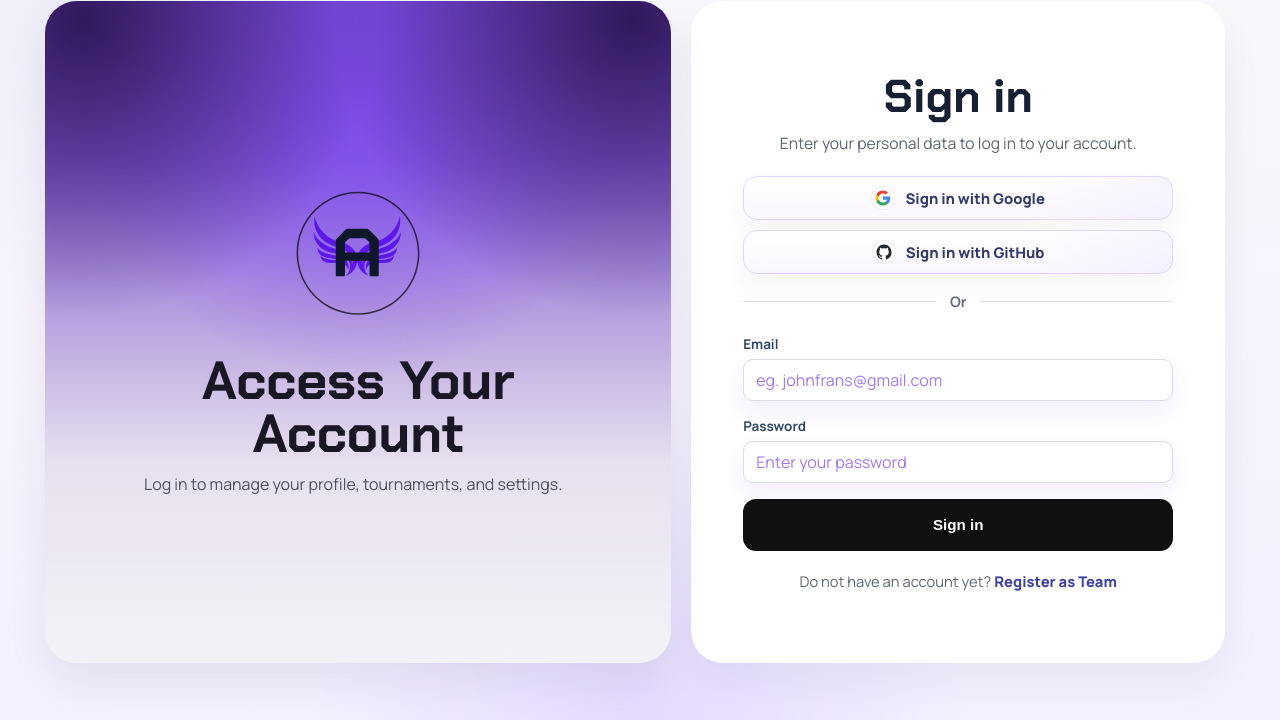
Test: LoginPage › shows validation error when email is invalid
Step 1. Type "wrong-email" into the field labelled "Email" → coordinates (958, 380), box [743,359,1173,401]
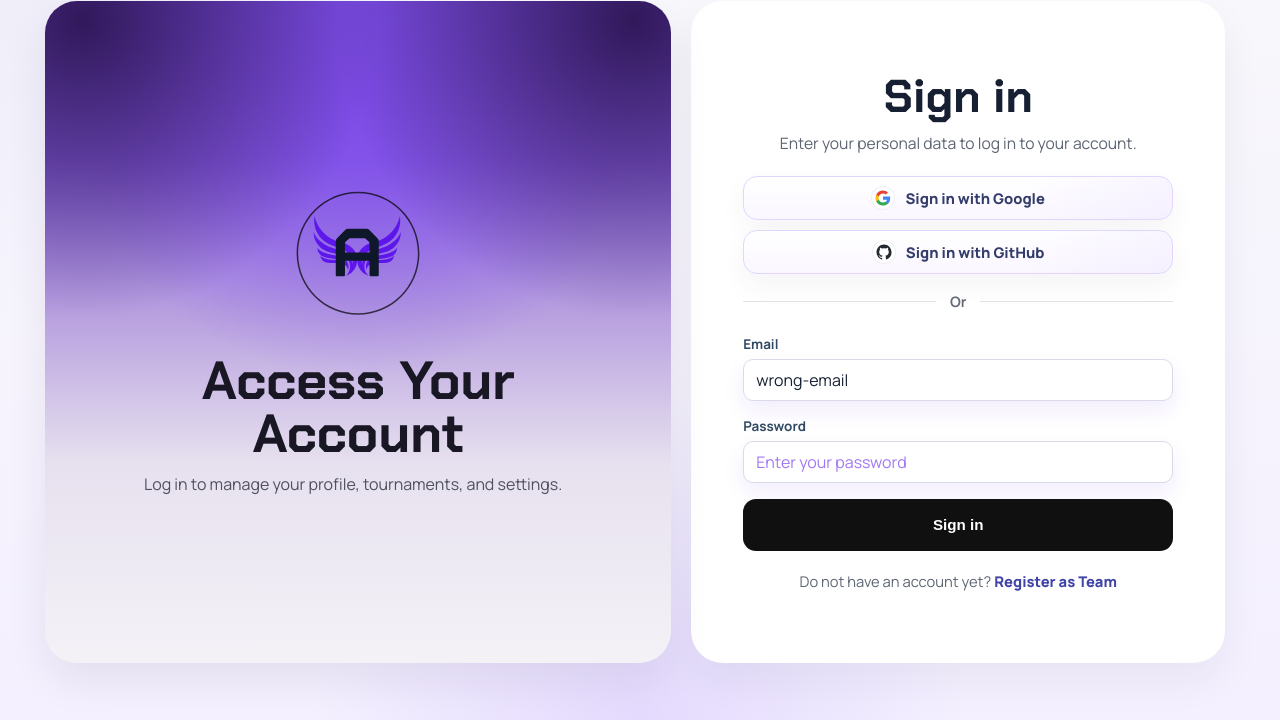
Step 2. Type "secret123" into the password field labelled "Password" → coordinates (958, 462), box [743,441,1173,483]
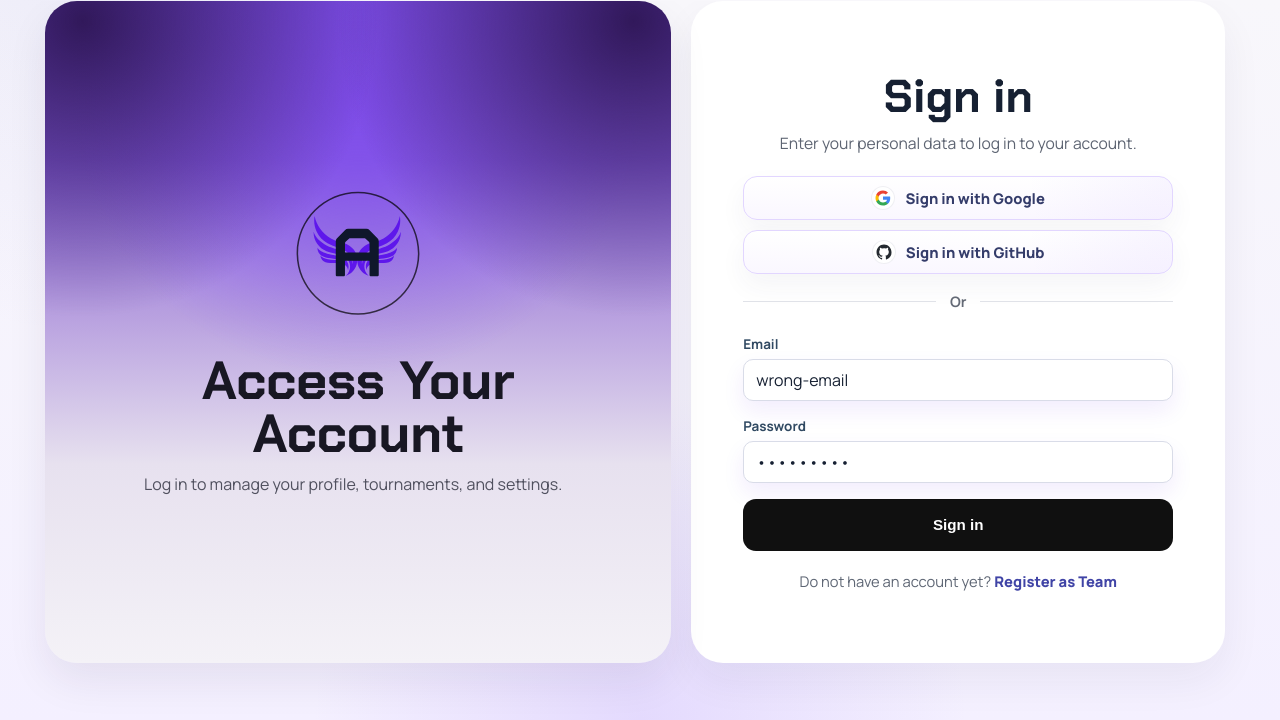
Step 3. Click the button "Sign in" → coordinates (958, 525), box [743,499,1173,551]
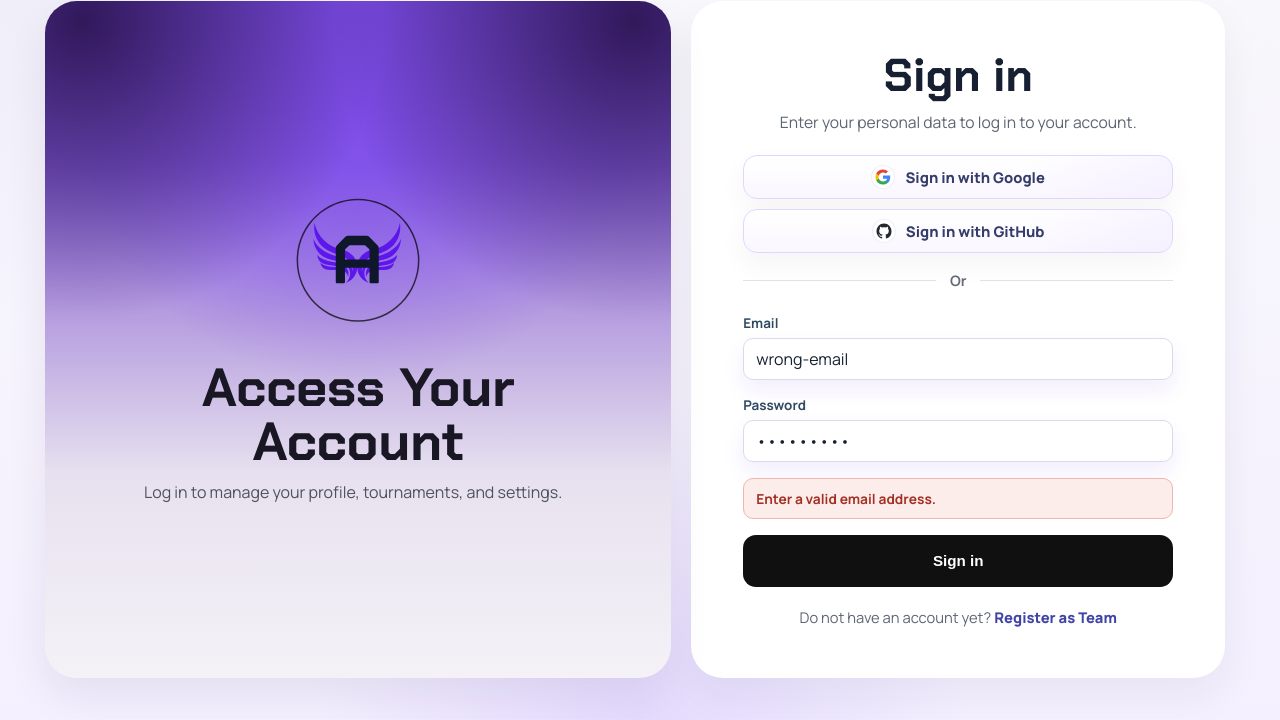
Expected: the text "Enter a valid email address." is shown, [743,478,1173,519]
